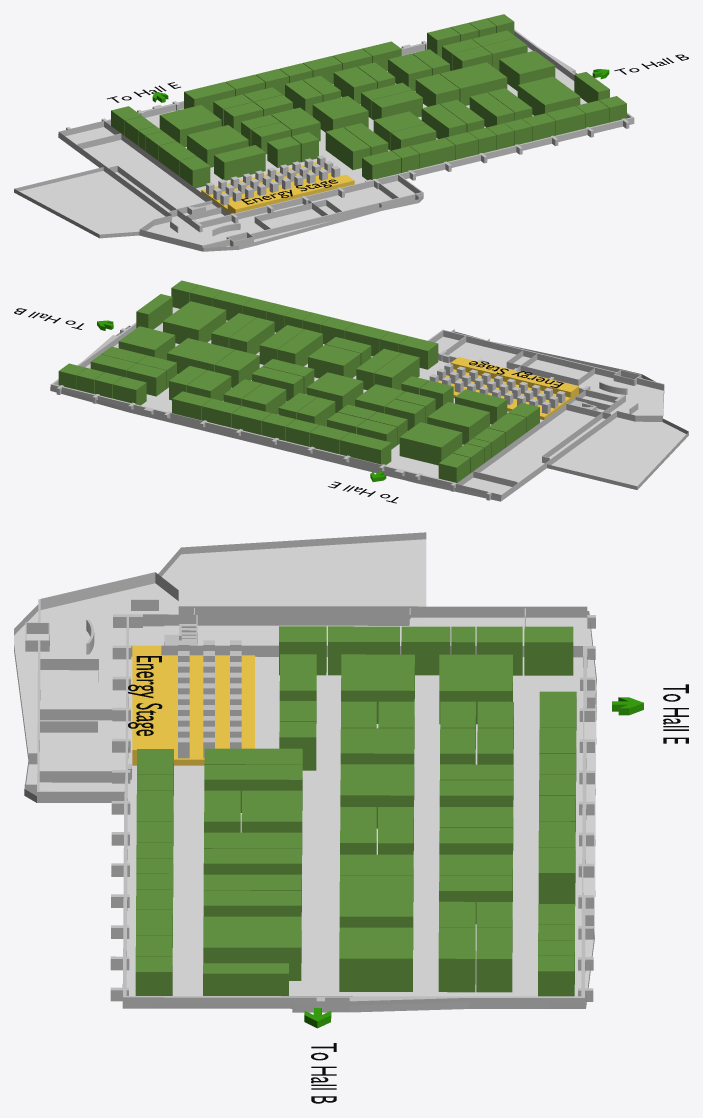
File: Hall_C.glb
The picture shows the model from 3 angles, top to bottom: view 1: azimuth 30°, elevation 25°; view 2: azimuth 150°, elevation 25°; view 3: azimuth 270°, elevation 25°; orthographic projection. The views are drawn at different scales.
Visible parts, largest first — view 1: Plane, Building_curve_, Cube.002, Background, Energy_Stage.001, BOOTHLAYER_curve_.C-3430, BOOTHLAYER_curve_.C-3250, BOOTHLAYER_curve_.C-3100, BOOTHLAYER_curve_.C-3210, BOOTHLAYER_curve_.C-3230, BOOTHLAYER_curve_.C-3260, BOOTHLAYER_curve_.C-3300 (+54 smaller); view 2: Plane, Building_curve_, Background, Cube.002, Energy_Stage.001, BOOTHLAYER_curve_.C-3100, BOOTHLAYER_curve_.C-3430, BOOTHLAYER_curve_.C-3210, BOOTHLAYER_curve_.C-3250, BOOTHLAYER_curve_.C-3230, BOOTHLAYER_curve_.C-3370, BOOTHLAYER_curve_.C-3260 (+57 smaller); view 3: Plane, Building_curve_, Energy_Stage.001, Background, BOOTHLAYER_curve_.C-3430, BOOTHLAYER_curve_.C-3260, Cube.002, BOOTHLAYER_curve_.C-3250, BOOTHLAYER_curve_.C-3100, BOOTHLAYER_curve_.C-3210, BOOTHLAYER_curve_.C-3230, BOOTHLAYER_curve_.C-3440 (+46 smaller).
Part boxes in pixels (bbox=[...]): Plane: bbox=[19, 47, 587, 246]; Building_curve_: bbox=[58, 29, 634, 251]; Cube.002: bbox=[206, 155, 340, 205]; Background: bbox=[14, 43, 634, 251]; Energy_Stage.001: bbox=[201, 162, 354, 213]; BOOTHLAYER_curve_.C-3430: bbox=[517, 76, 580, 115]; BOOTHLAYER_curve_.C-3250: bbox=[440, 62, 507, 105]; BOOTHLAYER_curve_.C-3100: bbox=[159, 105, 221, 147]; BOOTHLAYER_curve_.C-3210: bbox=[187, 125, 248, 167]; BOOTHLAYER_curve_.C-3230: bbox=[312, 96, 368, 132]; BOOTHLAYER_curve_.C-3260: bbox=[499, 50, 555, 90]; BOOTHLAYER_curve_.C-3300: bbox=[214, 145, 265, 180]; Plane: bbox=[85, 307, 686, 494]; Building_curve_: bbox=[50, 322, 664, 500]; Background: bbox=[50, 325, 688, 501]; Cube.002: bbox=[429, 363, 565, 413]; Energy_Stage.001: bbox=[438, 357, 578, 419]; BOOTHLAYER_curve_.C-3100: bbox=[399, 422, 462, 465]; BOOTHLAYER_curve_.C-3430: bbox=[163, 301, 226, 343]; BOOTHLAYER_curve_.C-3210: bbox=[427, 402, 489, 444]; BOOTHLAYER_curve_.C-3250: bbox=[167, 338, 234, 374]; BOOTHLAYER_curve_.C-3230: bbox=[306, 372, 363, 413]; BOOTHLAYER_curve_.C-3370: bbox=[308, 344, 360, 378]; BOOTHLAYER_curve_.C-3260: bbox=[118, 326, 175, 359]; Plane: bbox=[14, 539, 596, 1002]; Building_curve_: bbox=[24, 572, 595, 1008]; Energy_Stage.001: bbox=[132, 645, 254, 765]; Background: bbox=[14, 532, 596, 1012]; BOOTHLAYER_curve_.C-3430: bbox=[203, 916, 301, 980]; BOOTHLAYER_curve_.C-3260: bbox=[339, 927, 412, 991]; Cube.002: bbox=[178, 640, 241, 758]; BOOTHLAYER_curve_.C-3250: bbox=[339, 875, 413, 949]; BOOTHLAYER_curve_.C-3100: bbox=[439, 654, 512, 724]; BOOTHLAYER_curve_.C-3210: bbox=[341, 654, 414, 723]; BOOTHLAYER_curve_.C-3230: bbox=[340, 764, 414, 828]; BOOTHLAYER_curve_.C-3440: bbox=[203, 963, 288, 995].
Size of the model in its own units: 50.28 by 1.39 by 25.41.
